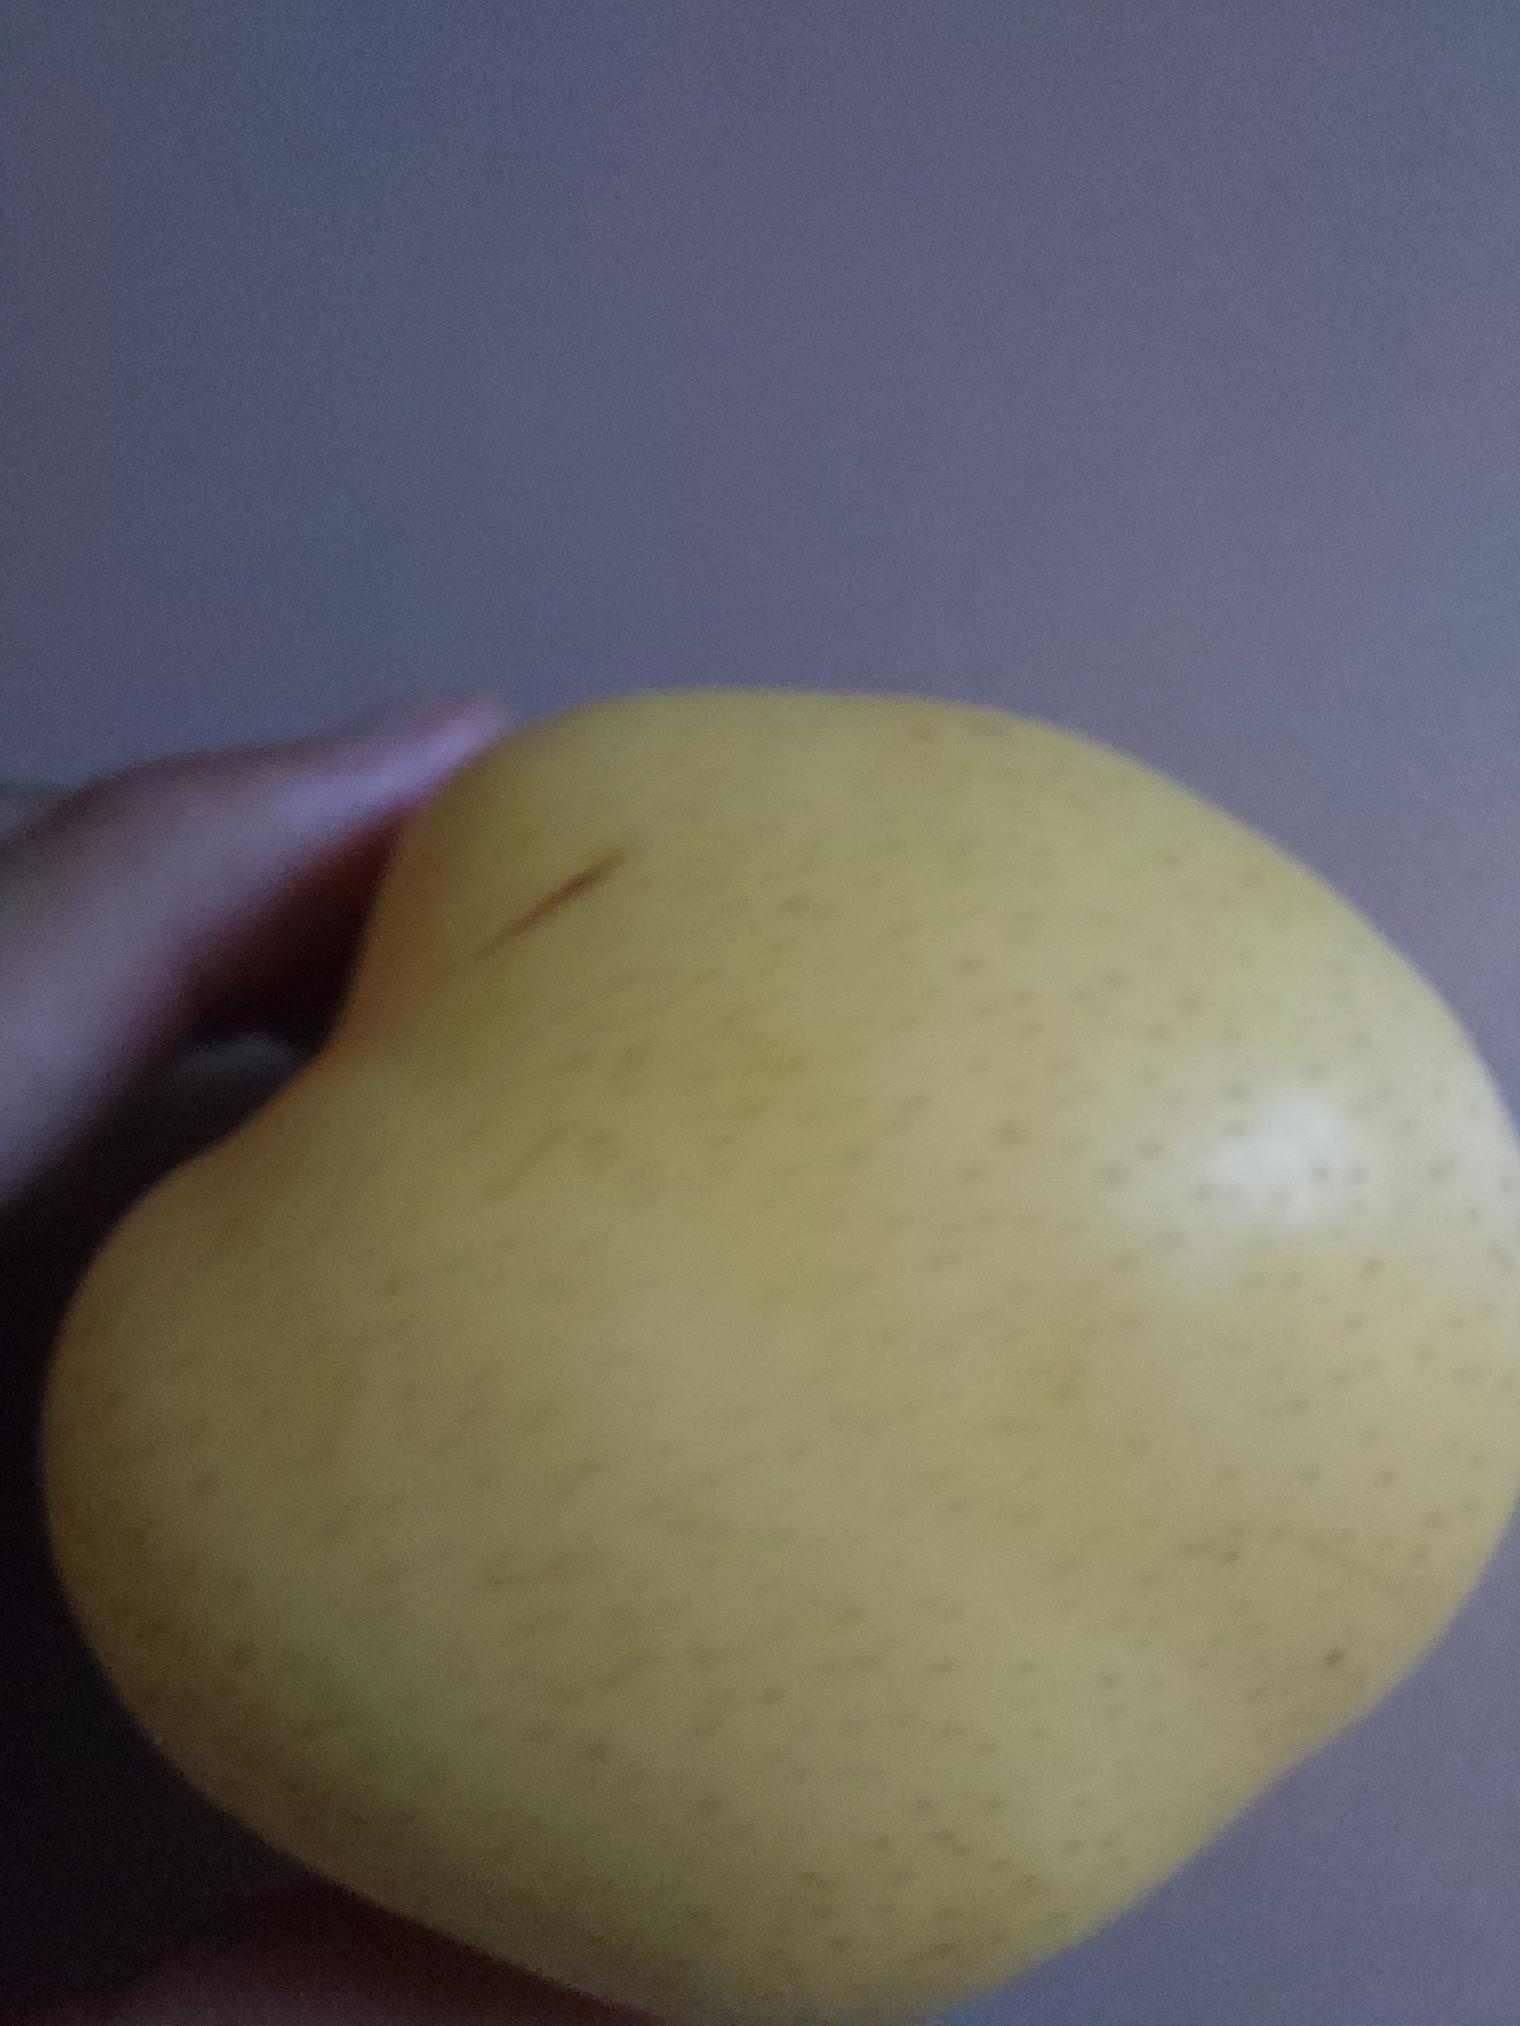Good Pear: (0, 680, 1520, 2017)
